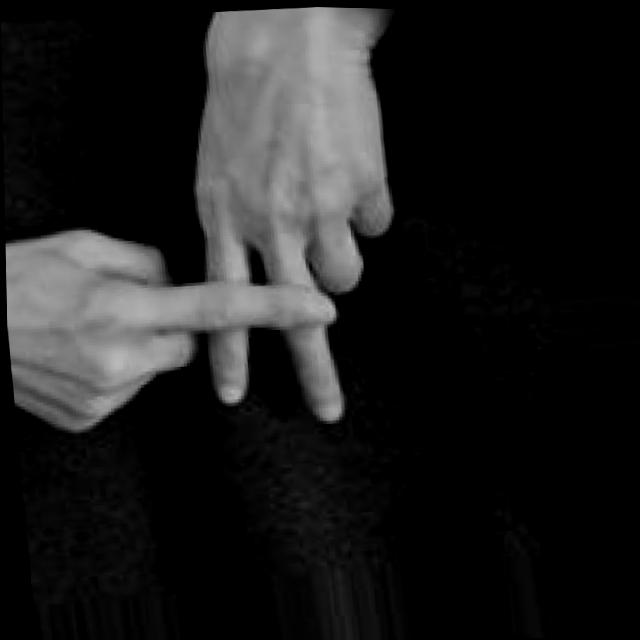A: (1, 24, 417, 463)
